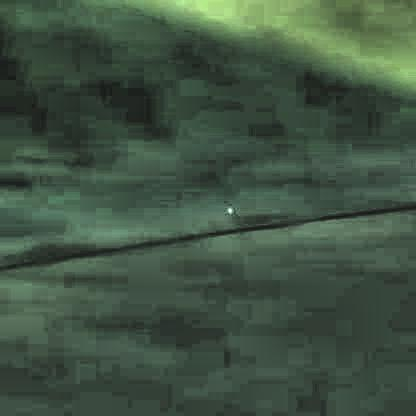golfball: (225, 203, 232, 210)
